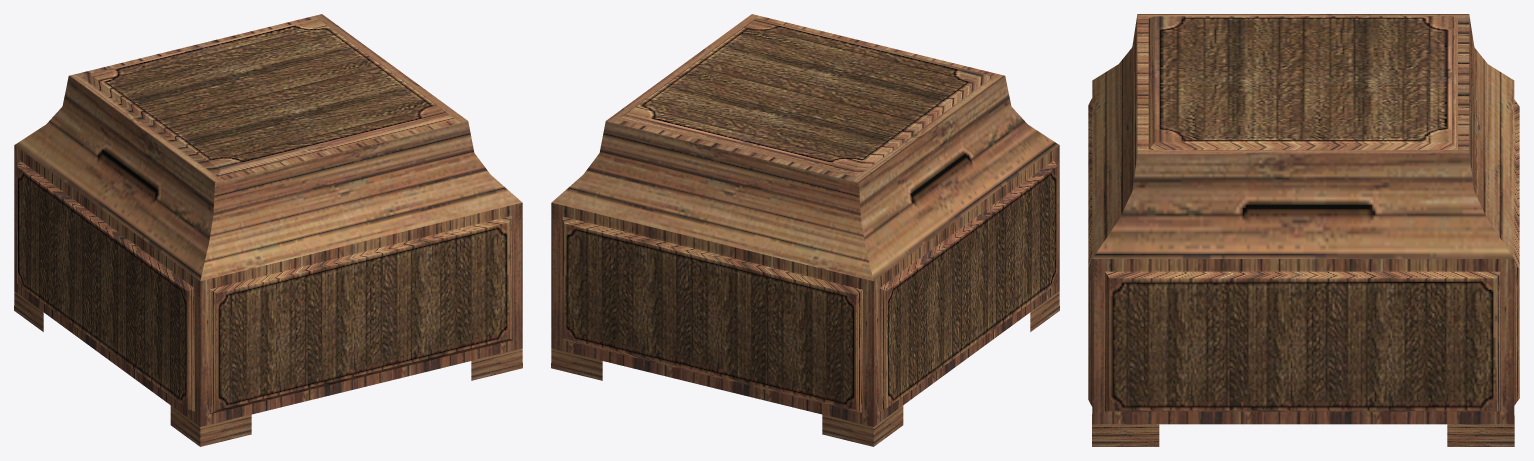
Rendered from frn_all_eleg_chest_s02_l0.fbx.
3 renders of one model, left to right at view 1: azimuth 30°, elevation 25°; view 2: azimuth 150°, elevation 25°; view 3: azimuth 270°, elevation 25°, orthographic. The views are drawn at different scales.
Parts seen in each view (by area): view 1: mesh_node; view 2: mesh_node; view 3: mesh_node.
Boxes of the visible parts, x1,y1,x2,y2 form: mesh_node: (14, 14, 522, 446); mesh_node: (551, 14, 1059, 446); mesh_node: (1088, 14, 1519, 446).
Size of the model in its own units: 1.08 by 0.7602 by 1.07.
